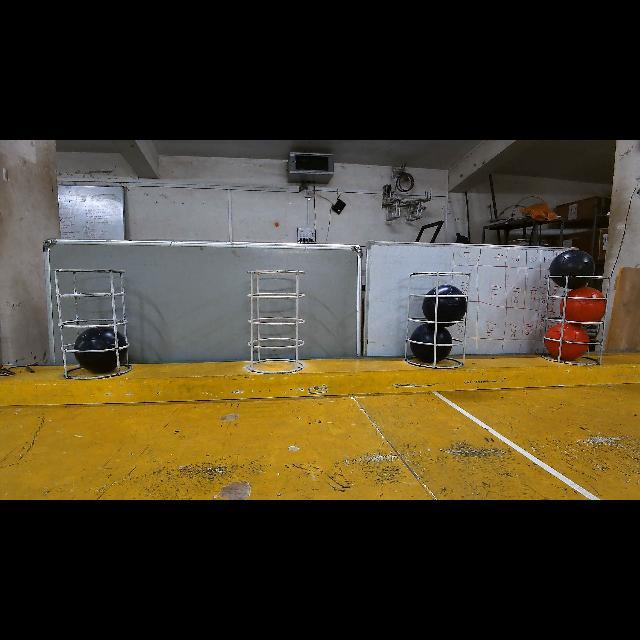P: (75, 330, 122, 375), (422, 284, 468, 326), (549, 250, 595, 289), (410, 322, 452, 364)
R: (545, 322, 590, 360), (560, 286, 606, 322)
S: (56, 264, 136, 384), (538, 270, 610, 372), (247, 267, 309, 375), (411, 266, 472, 374)
